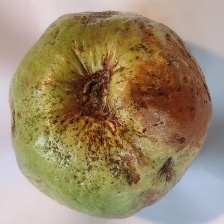guava: (26, 29, 192, 224)
